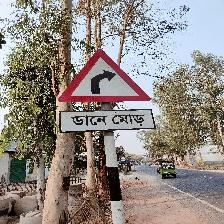Right-turn: (56, 49, 155, 134)
